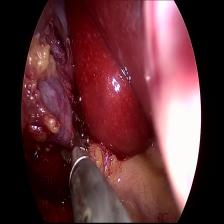Scissors: (57, 128, 90, 180)
